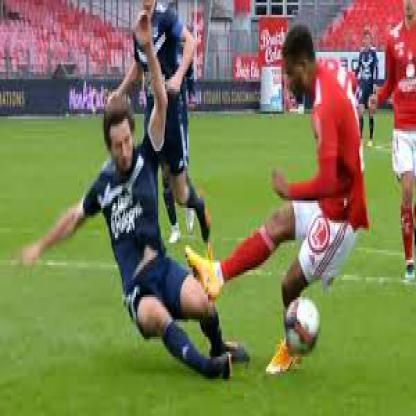Fall_Down: (21, 9, 250, 379)
